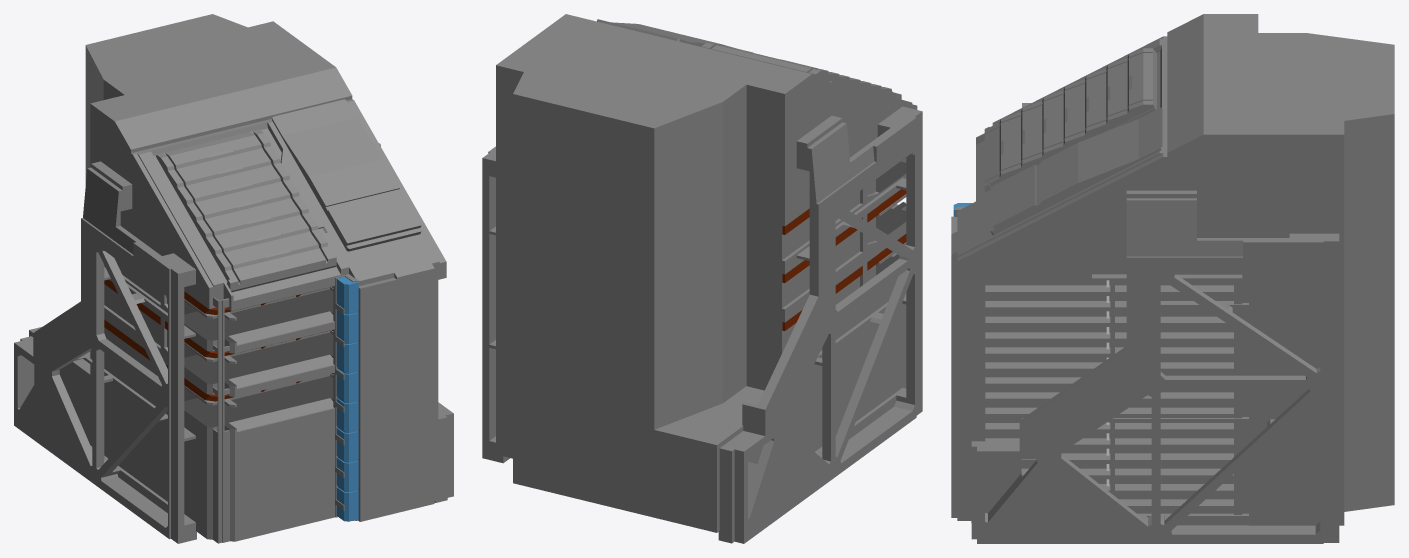
Rendered from Building_B.fbx.
The picture shows the model from 3 angles, left to right: view 1: azimuth 30°, elevation 25°; view 2: azimuth 150°, elevation 25°; view 3: azimuth 270°, elevation 25°; orthographic projection. The views are drawn at different scales.
Visible parts, largest first — view 1: Building_B_Base, Building_B_Frame_2, Building_B_Pannel, Building_B_RoofPannel, Glass_Blue, Building_B_Frame_1, Glass_Yellow, Building_B_Frame_3, Building_B_Frame; view 2: Building_B_Base, Building_B_Frame_2, Building_B_Frame_3, Glass_Yellow, Building_B_Pannel, Building_B_RoofPannel; view 3: Building_B_Base, Building_B_Frame_3, Building_B_Pannel_1, Building_B_Pannel, Building_B_RoofPannel.
Boxes of the visible parts, box(x1,y1,x2,y2) form: Building_B_Base: box(29, 14, 446, 541); Building_B_Frame_2: box(14, 161, 196, 543); Building_B_Pannel: box(154, 129, 336, 292); Building_B_RoofPannel: box(271, 99, 421, 251); Glass_Blue: box(336, 277, 358, 521); Building_B_Frame_1: box(213, 297, 229, 543); Glass_Yellow: box(104, 279, 333, 401); Building_B_Frame_3: box(379, 143, 453, 502); Building_B_Frame: box(333, 274, 359, 520); Building_B_Base: box(496, 14, 917, 532); Building_B_Frame_2: box(718, 106, 922, 543); Building_B_Frame_3: box(482, 146, 509, 463); Glass_Yellow: box(782, 189, 906, 330); Building_B_Pannel: box(701, 42, 901, 99); Building_B_RoofPannel: box(597, 19, 732, 47); Building_B_Base: box(951, 14, 1394, 525); Building_B_Frame_3: box(971, 190, 1339, 543); Building_B_Pannel_1: box(971, 274, 1242, 522); Building_B_Pannel: box(984, 48, 1156, 192); Building_B_RoofPannel: box(990, 107, 1163, 235).
Size of the model in its own units: 18031 by 24019 by 24111.
